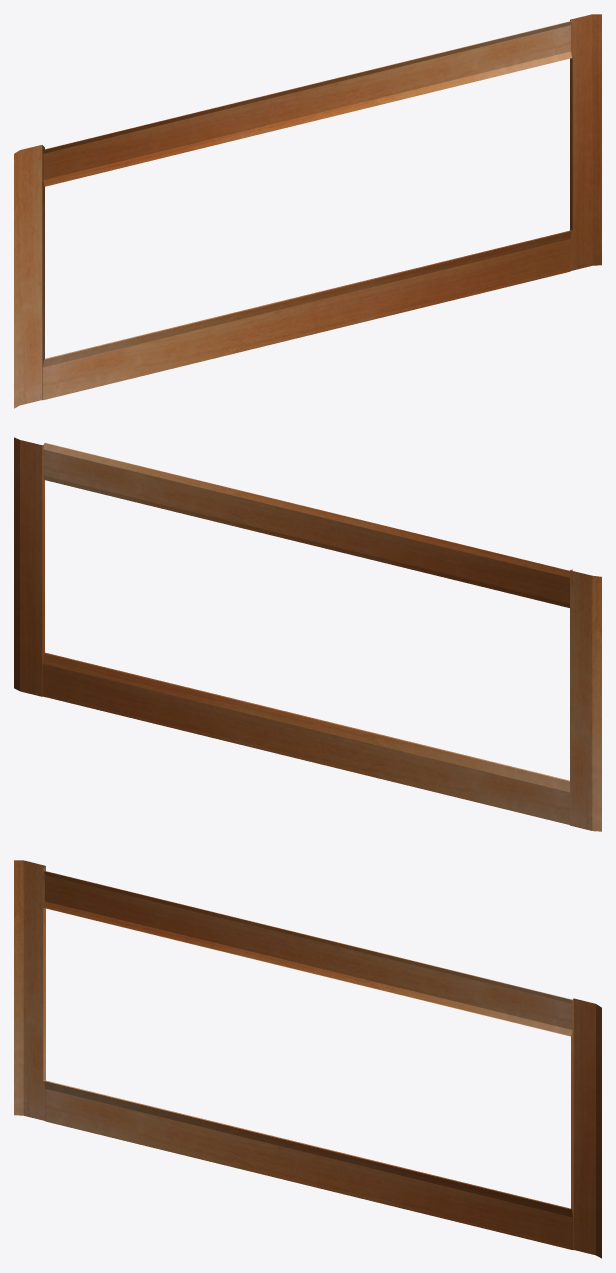
The model's file is WallDesign1.fbx.
3 views of the same model, one above another, from view 1: azimuth 30°, elevation 25°; view 2: azimuth 150°, elevation 25°; view 3: azimuth 330°, elevation 25° (orthographic).
Parts seen in each view (by area): view 1: Material2.008; view 2: Material2.008; view 3: Material2.008.
Boxes of the visible parts, x1,y1,x2,y2 form: Material2.008: (14,14,601,408); Material2.008: (14,437,601,831); Material2.008: (14,860,601,1258).
Size of the model in its own units: 939 by 390 by 7.5.
Materials: 1 (1 with a texture image).
